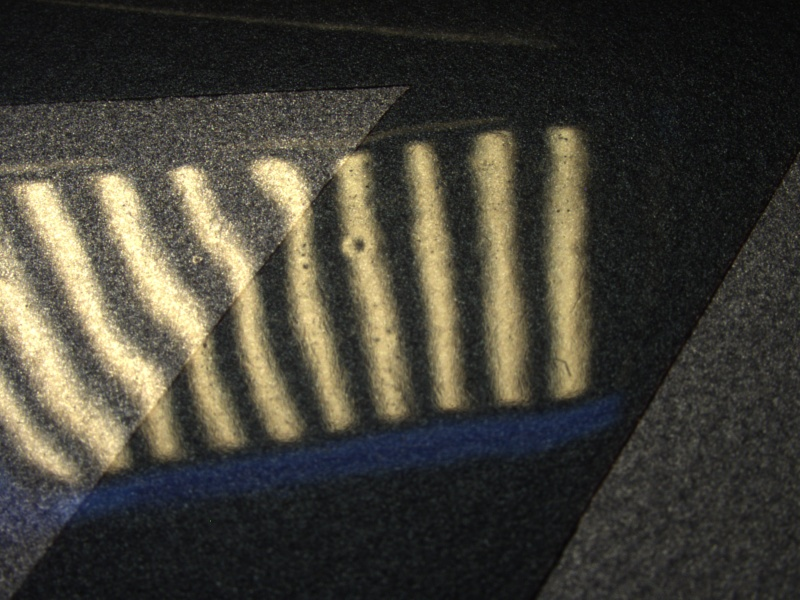bad: (334, 226, 374, 270)
